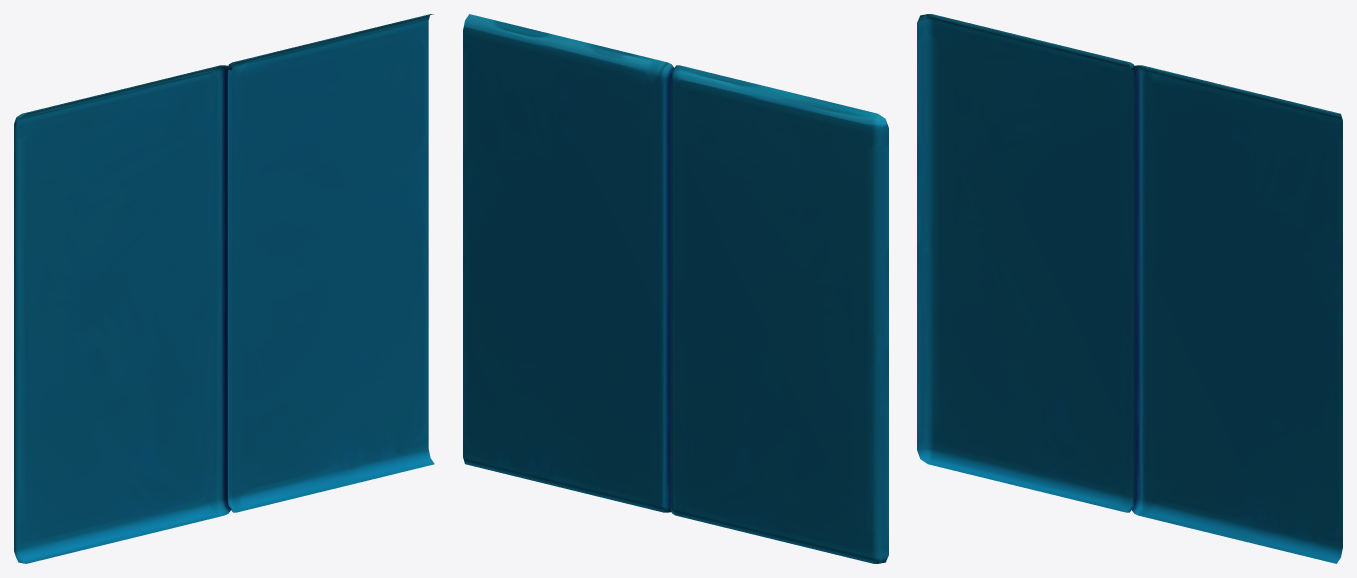
File: WallColumn_v5.fbx
3 views of the same model, side by side, from view 1: azimuth 30°, elevation 25°; view 2: azimuth 150°, elevation 25°; view 3: azimuth 330°, elevation 25° (orthographic).
Parts seen in each view (by area): view 1: WallColumn_v5; view 2: WallColumn_v5; view 3: WallColumn_v5.
Boxes of the visible parts, x1,y1,x2,y2 form: WallColumn_v5: (14,14,434,563); WallColumn_v5: (463,14,888,563); WallColumn_v5: (917,14,1342,563).
Bounding box in the file's own units: 97.5 × 100 × 3.
